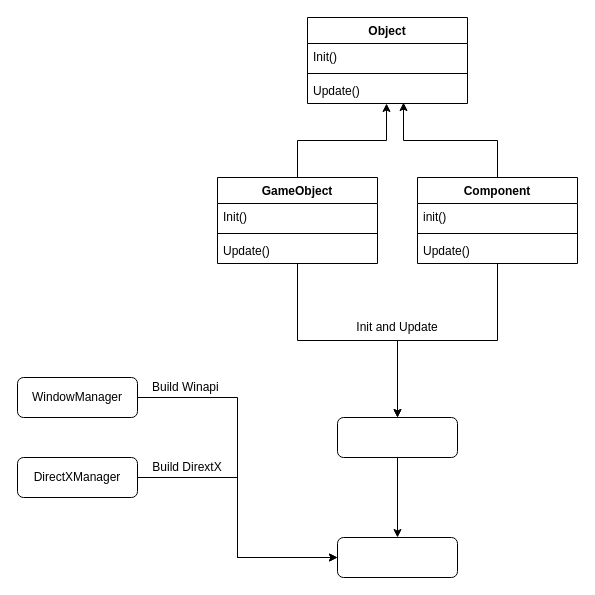
Some shapes in this 595 by 595 pixel diagram are drawn without their labels. Here are the shapes that lost their labels. From the top down, the centre of each, then its label:
the point at 397,437: Execute
the point at 397,557: WinMain
